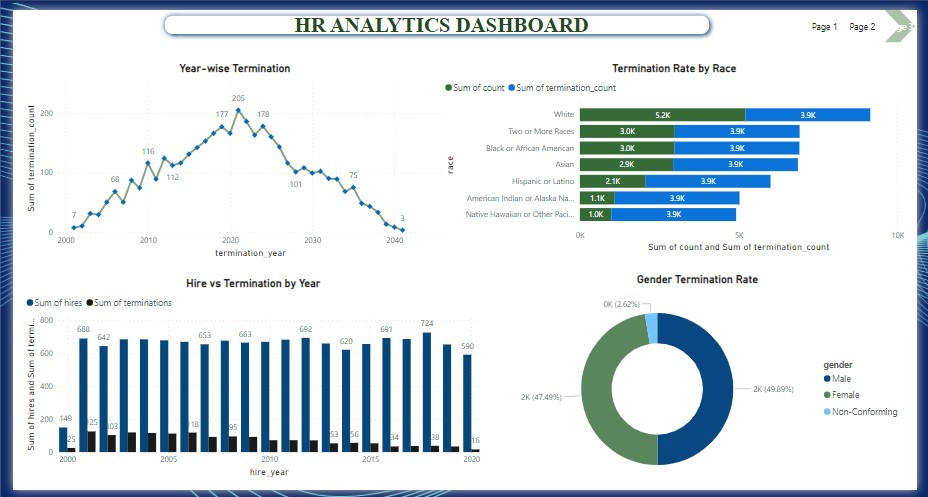

This screenshot's page, from the dashboard's own definition file:
{"tool":"powerbi","page":{"name":"Page 3","canvas":[1390,738],"ordinal":2},"visuals":[{"type":"shape","box":[224.2,0,855.4,46],"z":0,"group":"g1"},{"type":"textbox","box":[253.4,0,810.8,52.3],"z":1000,"group":"g1"},{"type":"lineChart","title":"Year-wise Termination","fields":{"Category":["year_termination.termination_year"],"Y":["Sum(year_termination.termination_count)"]},"box":[0,80,663.1,310.8],"z":2000,"group":"g1"},{"type":"clusteredColumnChart","title":"Hire vs Termination by Year","fields":{"Category":["hires_termination.hire_year"],"Y":["Sum(hires_termination.hires)","Sum(hires_termination.terminations)"]},"box":[0,390.8,721.5,347.7],"z":2001,"group":"g1"},{"type":"barChart","title":"Termination Rate by Race","fields":{"Y":["Sum(race.count)","Sum(year_termination.termination_count)"],"Category":["race.race"]},"box":[663.1,80,727.7,310.8],"z":2002,"group":"g1"},{"type":"donutChart","title":"Gender Termination Rate","fields":{"Category":["gender termination.gender"],"Y":["Sum(gender termination.termination_count)"]},"box":[721.5,390.8,669.2,347.7],"z":2003,"group":"g1"},{"type":"group","id":"g1","title":"Group 1","box":[0,0,1390.8,738.5],"z":2004},{"type":"pageNavigator","box":[1223.8,0,166.2,50.8],"z":2005}]}

Visuals, with their boxes in screenshot pixels (x1, y1, x2, y2), scaled from the page's 1390x738 canvas onto the 928x497 screenshot:
shape: [150, 0, 721, 31]
textbox: [169, 0, 710, 35]
"Year-wise Termination" lineChart: [0, 54, 443, 263]
"Hire vs Termination by Year" clusteredColumnChart: [0, 263, 482, 496]
"Termination Rate by Race" barChart: [443, 54, 927, 263]
"Gender Termination Rate" donutChart: [482, 263, 927, 496]
"Group 1" group: [0, 0, 927, 496]
pageNavigator: [817, 0, 927, 34]
